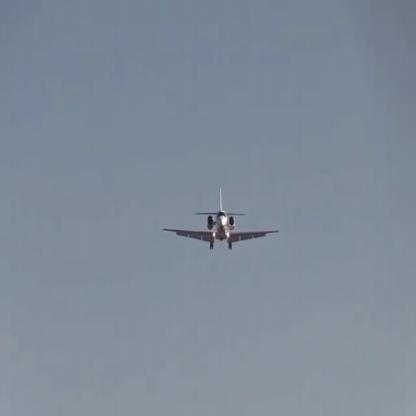CIV_Plane: (163, 187, 280, 249)
